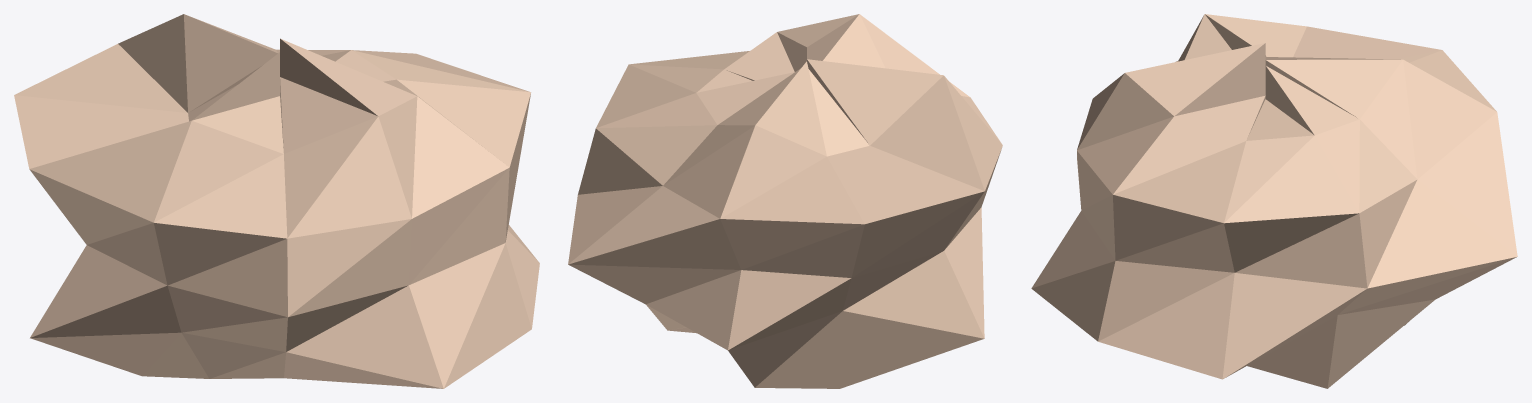
File: rock_040.obj
3 views of the same model, side by side, from view 1: azimuth 30°, elevation 25°; view 2: azimuth 150°, elevation 25°; view 3: azimuth 270°, elevation 25° (orthographic). The views are drawn at different scales.
Size of the model in its own units: 0.6909 by 0.483 by 0.7088.
